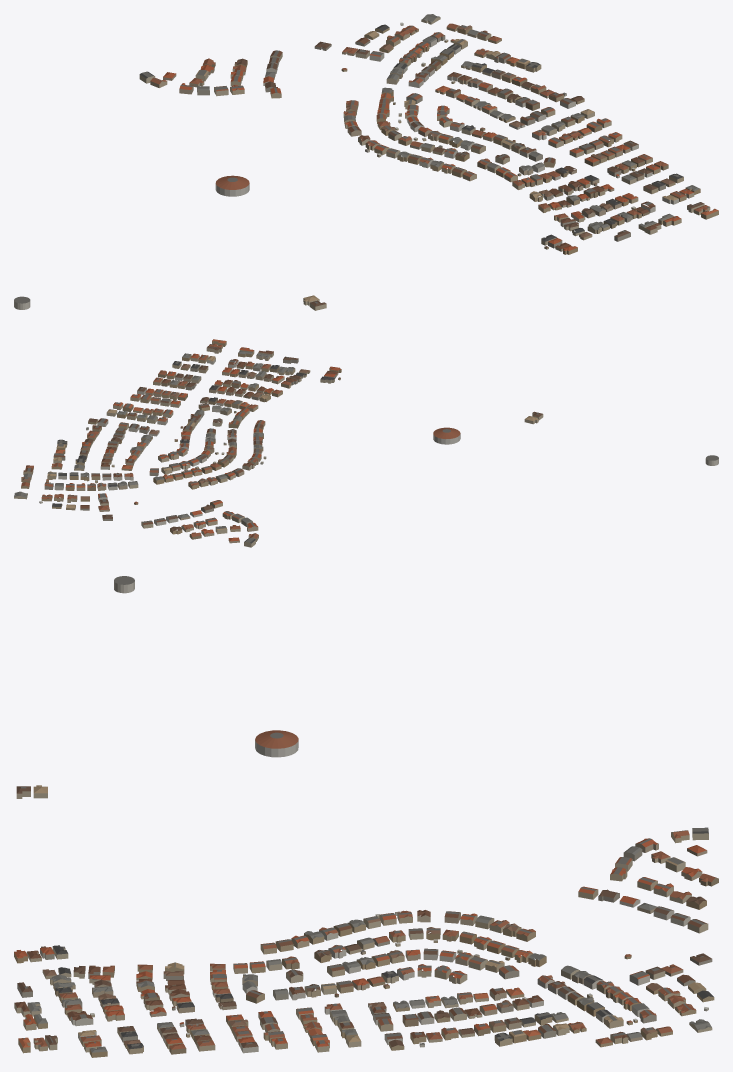
3 views of the same model, one above another, from view 1: azimuth 30°, elevation 25°; view 2: azimuth 150°, elevation 25°; view 3: azimuth 270°, elevation 25° (orthographic). The views are drawn at different scales.
Parts seen in each view (by area): view 1: buildings_r1_c4_lod1; view 2: buildings_r1_c4_lod1; view 3: buildings_r1_c4_lod1.
Part boxes in pixels (x1,y1,x2,y2): buildings_r1_c4_lod1: (14, 14, 718, 310); buildings_r1_c4_lod1: (14, 339, 718, 547); buildings_r1_c4_lod1: (14, 576, 718, 1057).
Size of the model in its own units: 1141 by 93.42 by 804.
